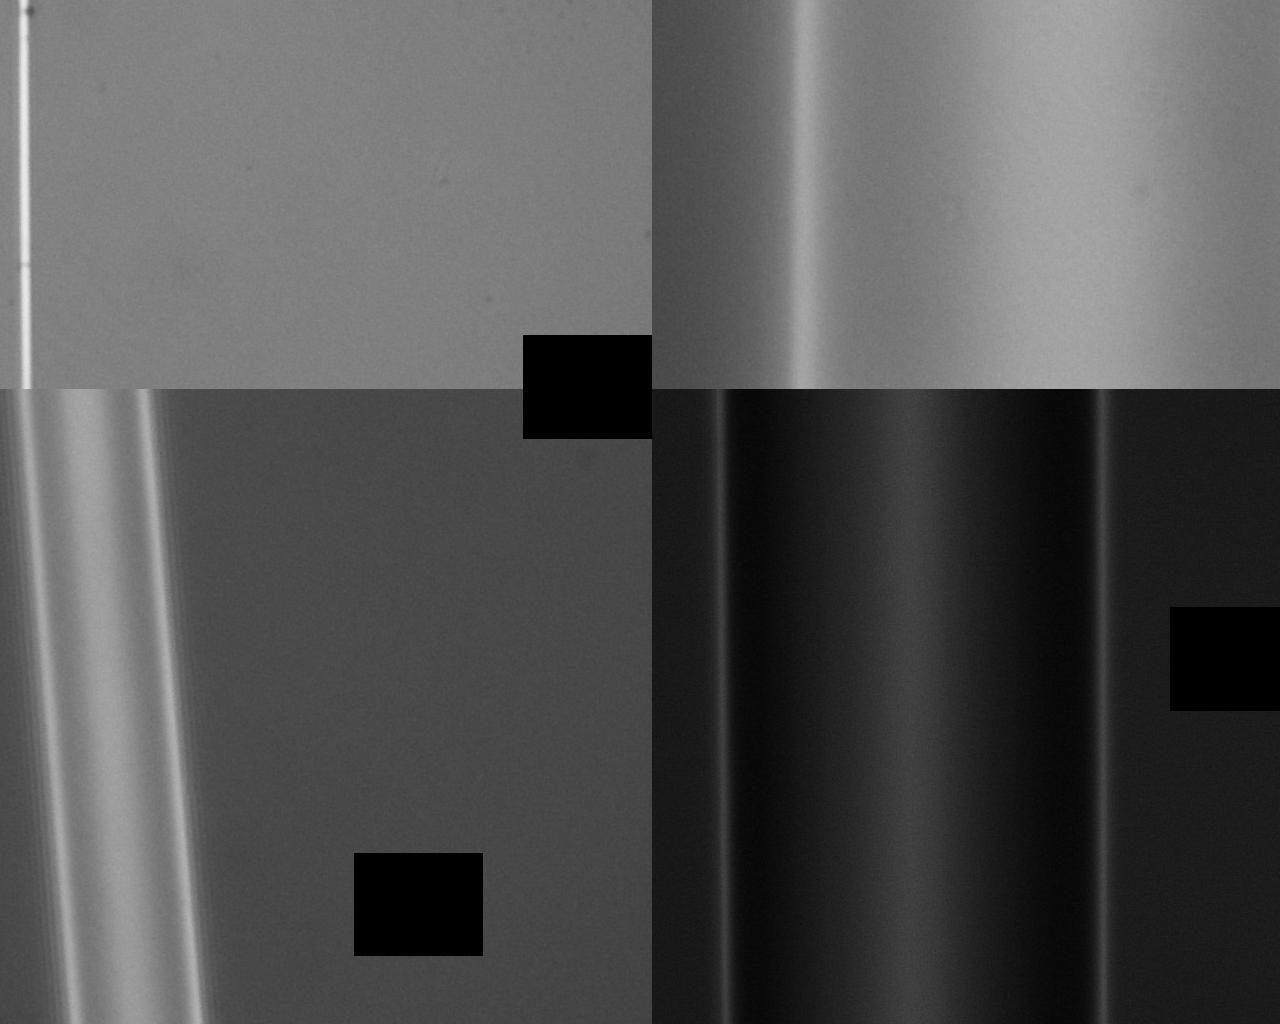fiber: (128, 468, 1152, 518)
